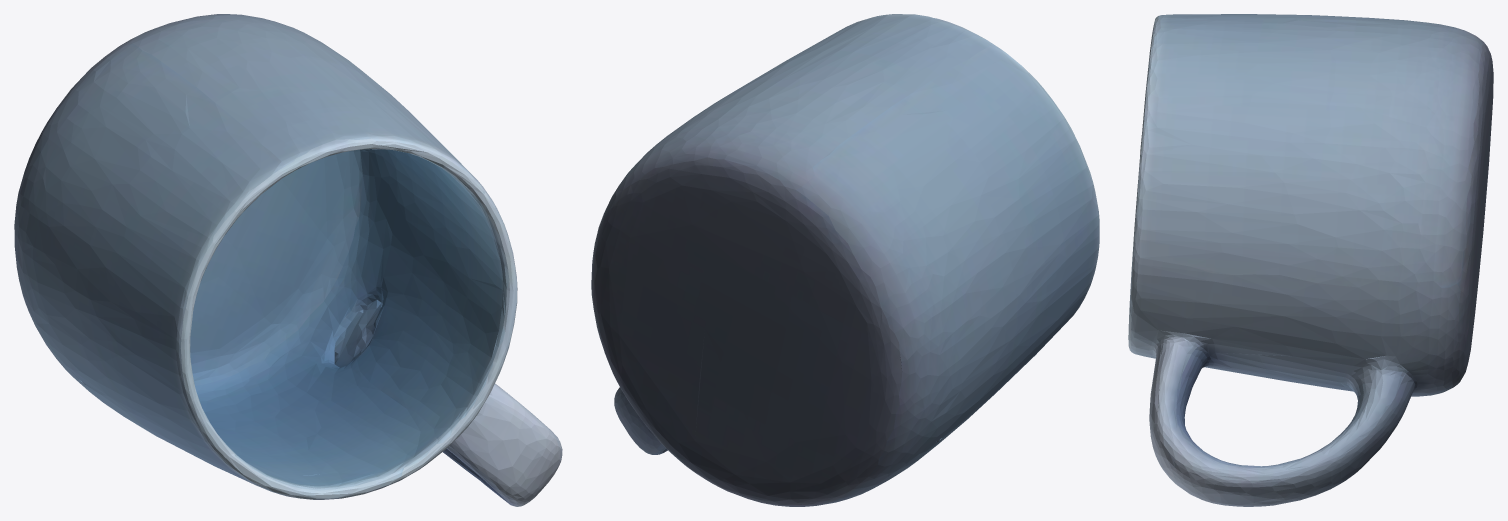
File: mug.glb
3 renders of one model, left to right at view 1: azimuth 30°, elevation 25°; view 2: azimuth 150°, elevation 25°; view 3: azimuth 270°, elevation 25°, orthographic. The views are drawn at different scales.
Parts seen in each view (by area): view 1: geometry_0; view 2: geometry_0; view 3: geometry_0.
Boxes of the visible parts, x1,y1,x2,y2 form: geometry_0: (14, 14, 562, 506); geometry_0: (591, 14, 1099, 506); geometry_0: (1128, 14, 1493, 506).
Bounding box in the file's own units: 0.1106 × 0.1128 × 0.0959.
Materials: 1 (1 with a texture image).
